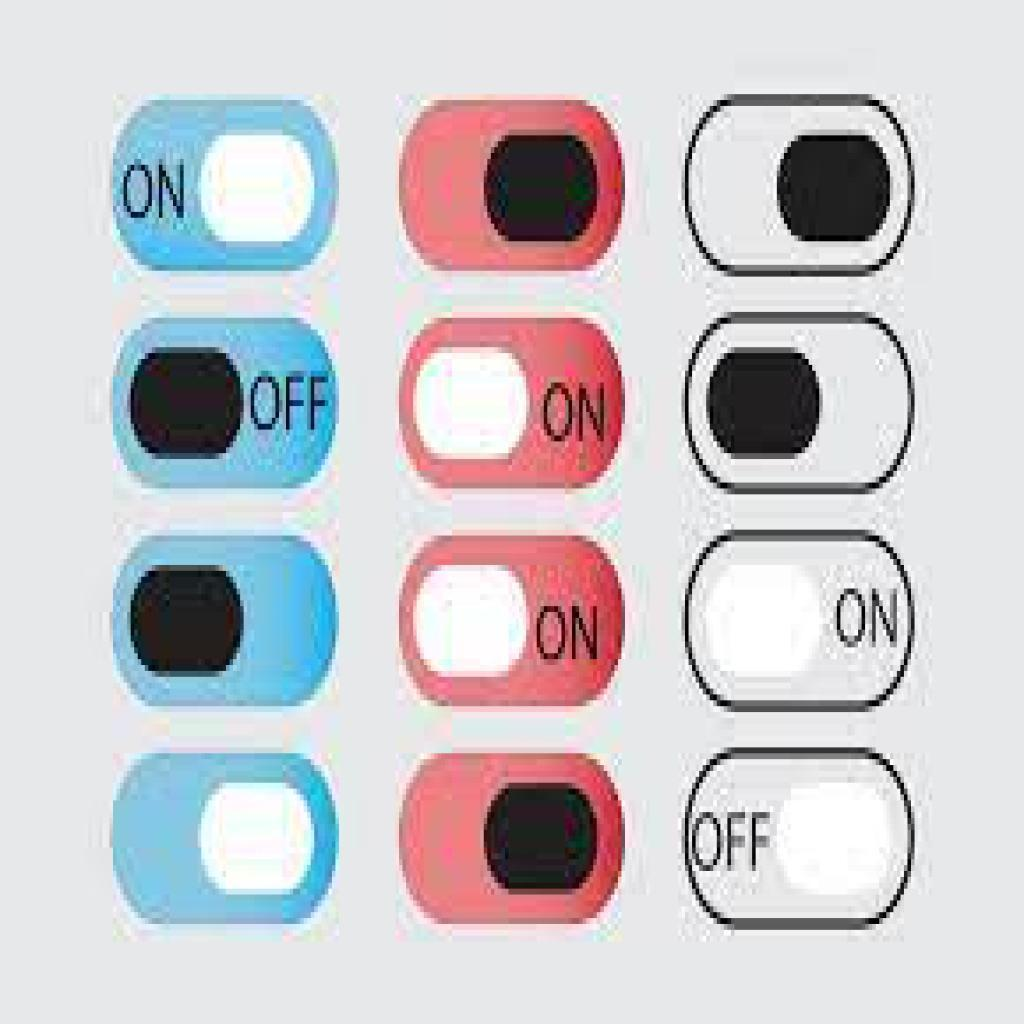switch: (679, 529, 925, 716), (682, 311, 916, 497), (685, 746, 918, 929), (685, 96, 916, 274), (113, 313, 342, 491), (113, 533, 341, 710), (399, 317, 629, 491), (398, 534, 624, 711), (395, 755, 627, 926), (112, 755, 343, 925), (112, 105, 341, 273), (399, 101, 622, 272)
